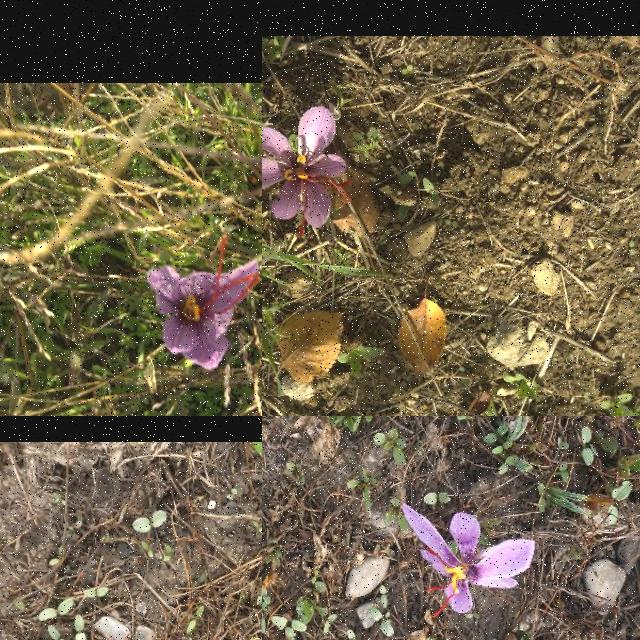flower: (401, 504, 535, 618), (147, 236, 260, 370), (262, 106, 350, 237)
